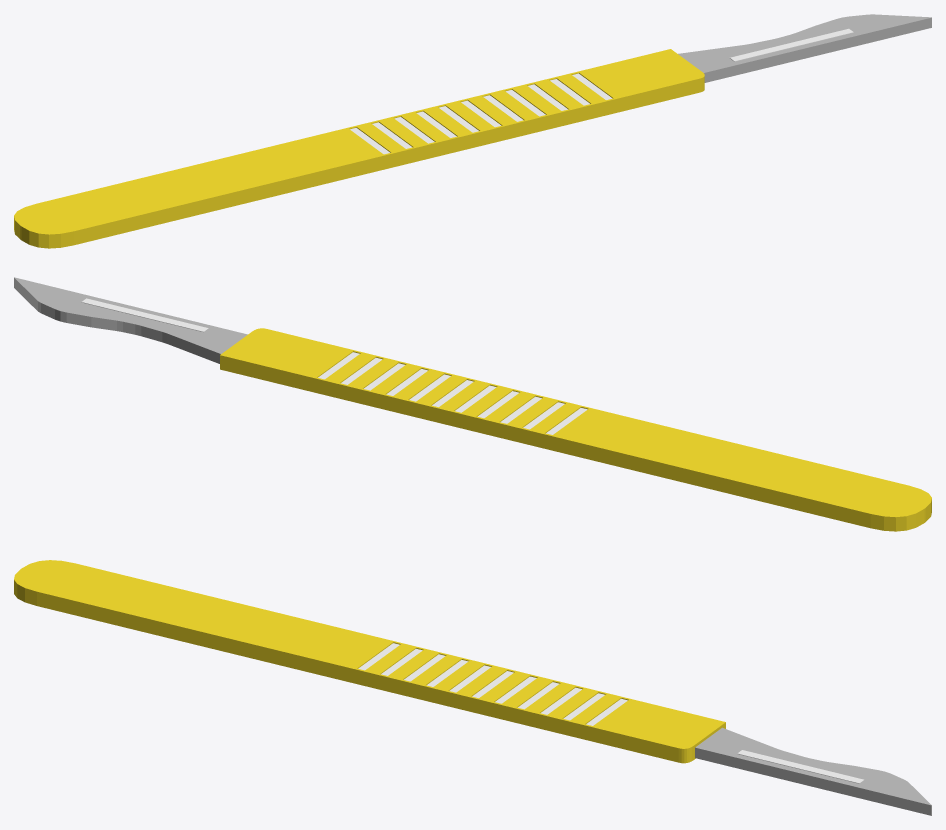
Rendered from scalpel_from_poly_by_google.glb.
The picture shows the model from 3 angles, top to bottom: view 1: azimuth 30°, elevation 25°; view 2: azimuth 150°, elevation 25°; view 3: azimuth 330°, elevation 25°; orthographic projection. The views are drawn at different scales.
Parts seen in each view (by area): view 1: Object_4, Object_5, Object_6; view 2: Object_4, Object_5, Object_6; view 3: Object_4, Object_5, Object_6.
Part boxes in pixels (<box>): Object_4: <box>14,49,704,248</box>; Object_5: <box>678,14,931,82</box>; Object_6: <box>350,28,853,154</box>; Object_4: <box>220,328,931,531</box>; Object_5: <box>14,277,247,363</box>; Object_6: <box>81,298,587,434</box>; Object_4: <box>14,560,725,763</box>; Object_5: <box>695,727,931,815</box>; Object_6: <box>358,643,864,783</box>.
Size of the model in its own units: 320062 by 4774 by 23207.
